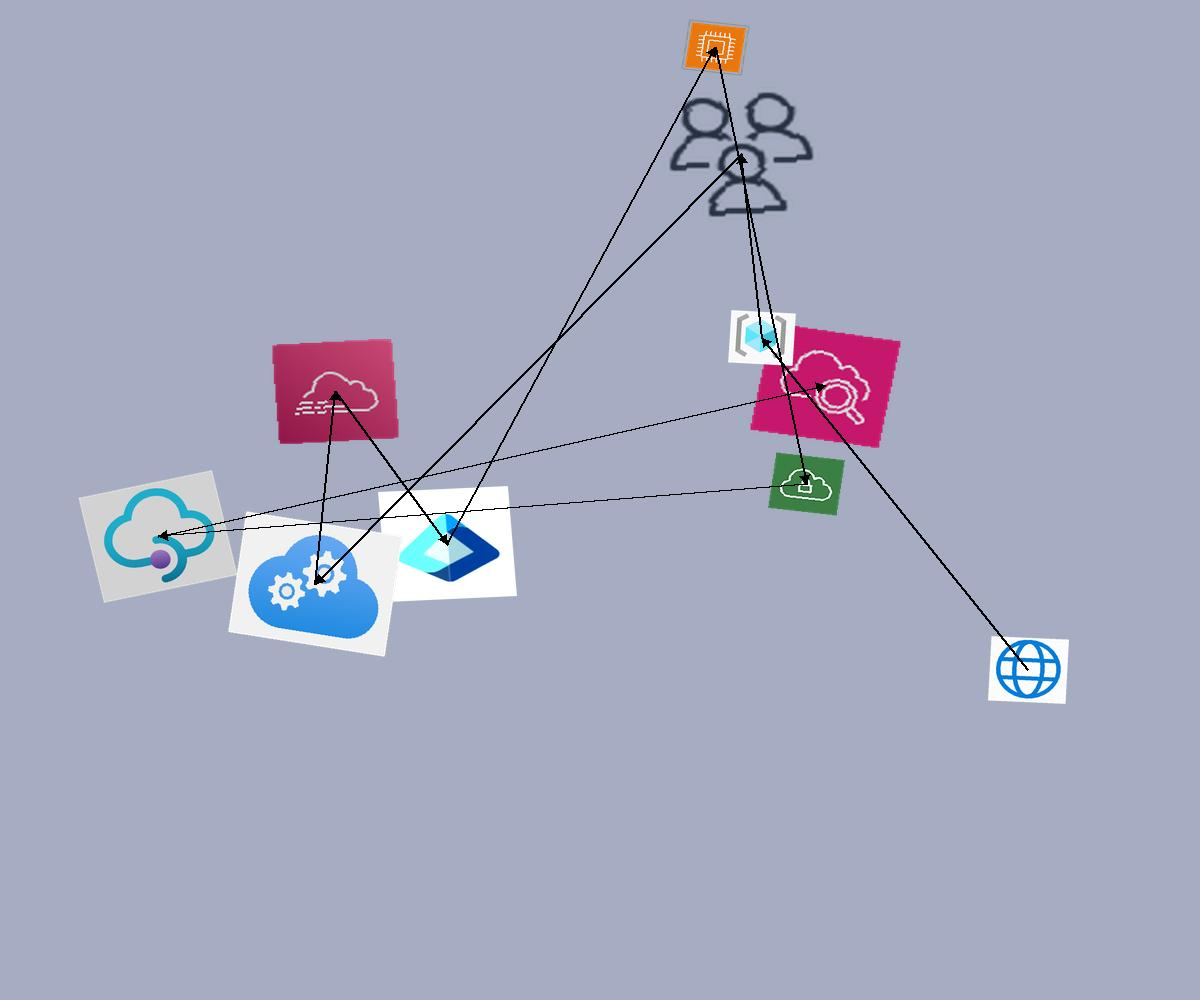AWS-Category_Compute: (681, 19, 750, 76)
AWS-CloudTrail: (271, 338, 400, 445)
AWS-CloudWatch: (749, 322, 902, 449)
AWS-Private_vpc: (768, 452, 845, 516)
AWS-Res_Users: (654, 82, 829, 227)
Azure_api_gateway: (78, 470, 238, 603)
Azure_cloud_services: (228, 511, 403, 657)
Azure_http: (988, 636, 1069, 704)
Azure_microsoft_entra: (378, 486, 517, 602)
Azure_resource_group: (728, 310, 796, 366)
